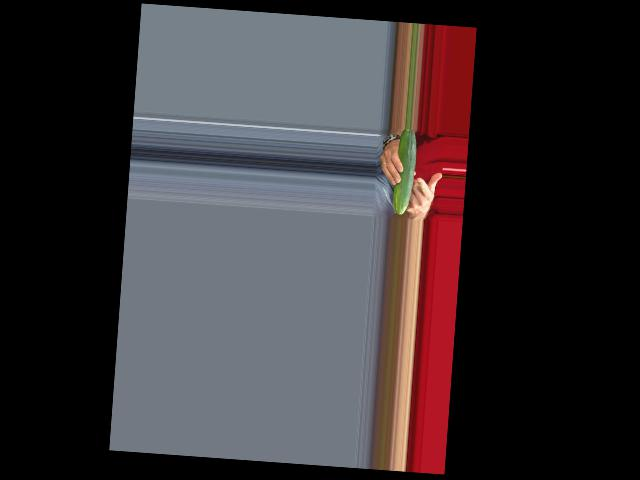cucumber: (391, 128, 418, 215)
